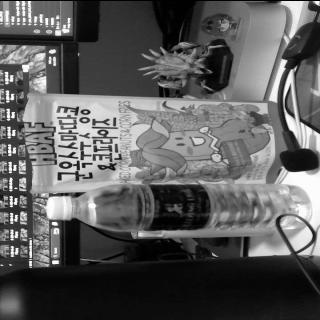plastic_bottles: (43, 182, 314, 230)
